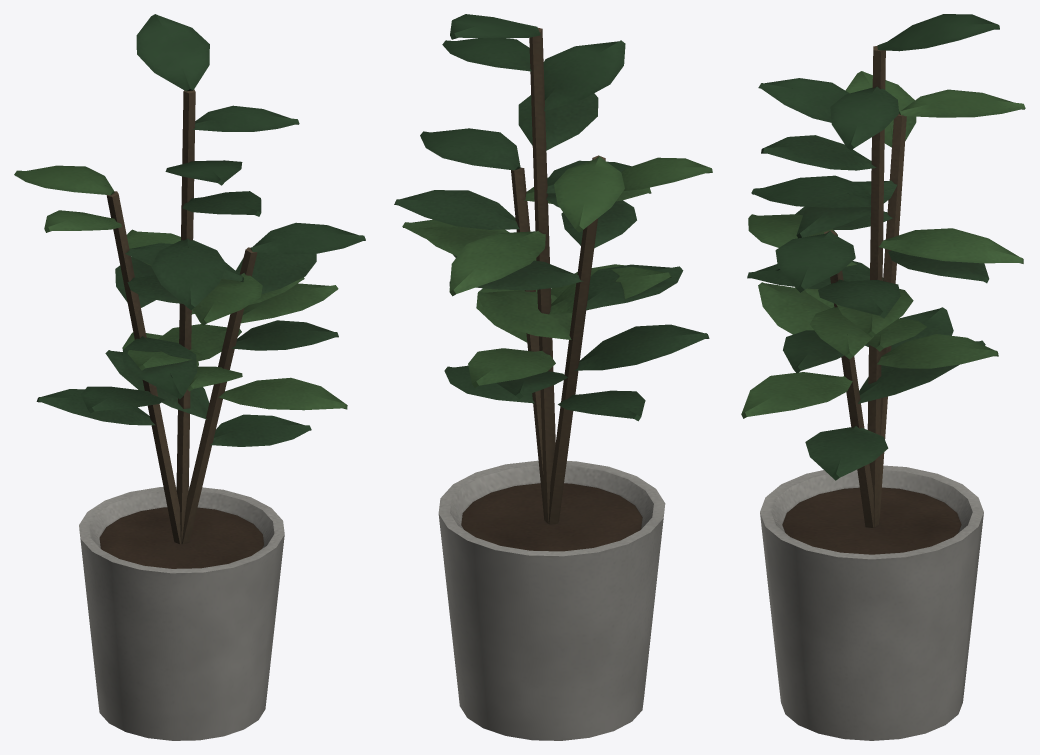
File: H_PlantFiddle.fbx
3 views of the same model, side by side, from view 1: azimuth 30°, elevation 25°; view 2: azimuth 150°, elevation 25°; view 3: azimuth 270°, elevation 25° (orthographic). The views are drawn at different scales.
Parts seen in each view (by area): view 1: H_PlantFiddle; view 2: H_PlantFiddle; view 3: H_PlantFiddle.
Part boxes in pixels (x1,y1,x2,y2): H_PlantFiddle: (14,14,365,740); H_PlantFiddle: (394,14,712,740); H_PlantFiddle: (741,14,1025,740).
Size of the model in its own units: 260 by 547 by 203.
1 material, 1 textured.
